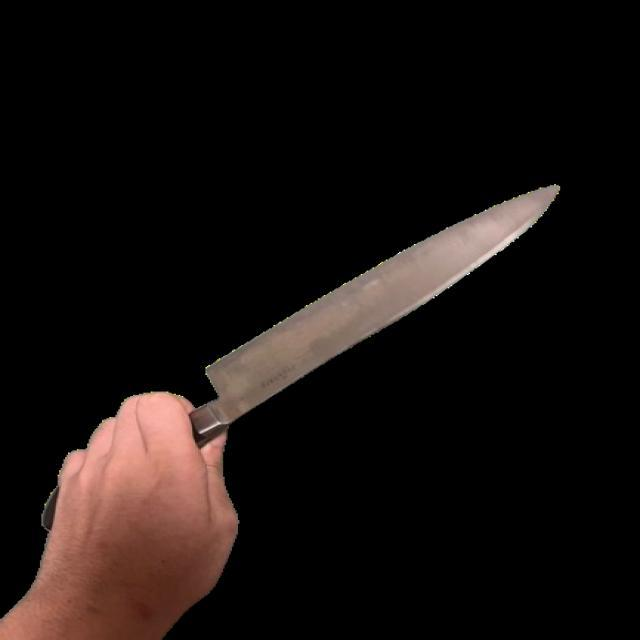knife: (19, 185, 566, 624)
